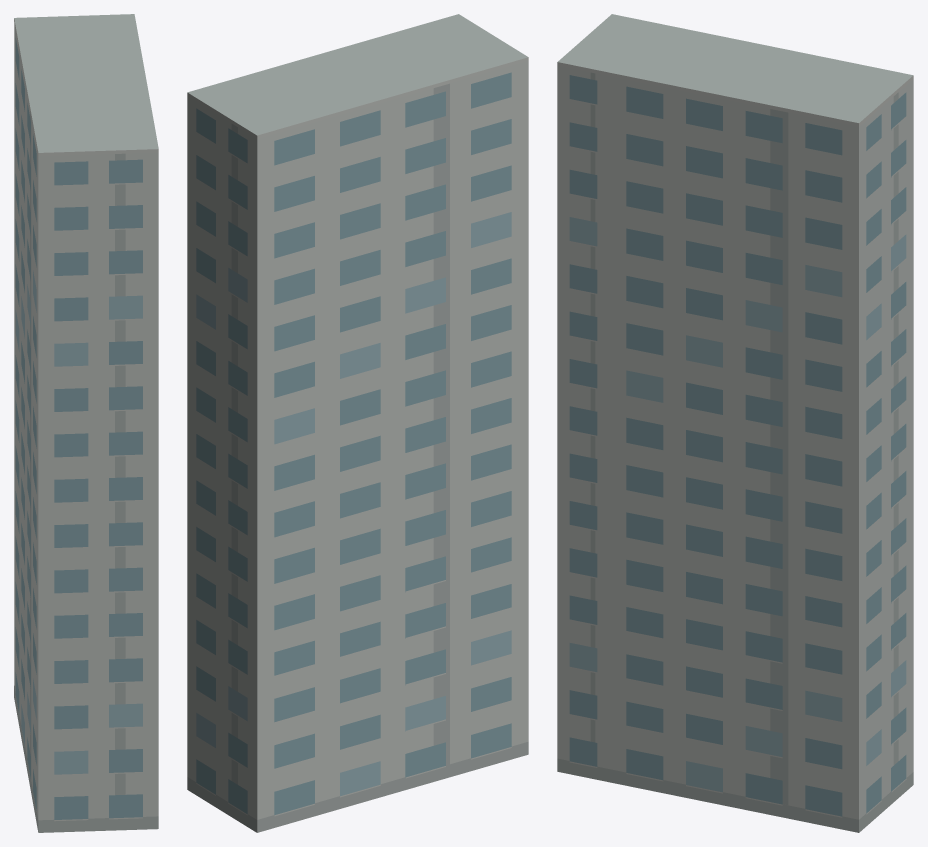
The model's file is residential-1332068f-a535-4706-9f2d-9245dc7131a8.glb.
3 renders of one model, left to right at view 1: azimuth 30°, elevation 25°; view 2: azimuth 150°, elevation 25°; view 3: azimuth 270°, elevation 25°, orthographic. The views are drawn at different scales.
Parts seen in each view (by area): view 1: residential-1332068f-a535-4706-9f2d-9245dc7131a8.tmp; view 2: residential-1332068f-a535-4706-9f2d-9245dc7131a8.tmp; view 3: residential-1332068f-a535-4706-9f2d-9245dc7131a8.tmp.
Boxes of the visible parts, x1,y1,x2,y2 form: residential-1332068f-a535-4706-9f2d-9245dc7131a8.tmp: (14,14,158,832); residential-1332068f-a535-4706-9f2d-9245dc7131a8.tmp: (187,14,528,832); residential-1332068f-a535-4706-9f2d-9245dc7131a8.tmp: (557,14,913,832).
Size of the model in its own units: 15.52 by 47 by 21.38.
